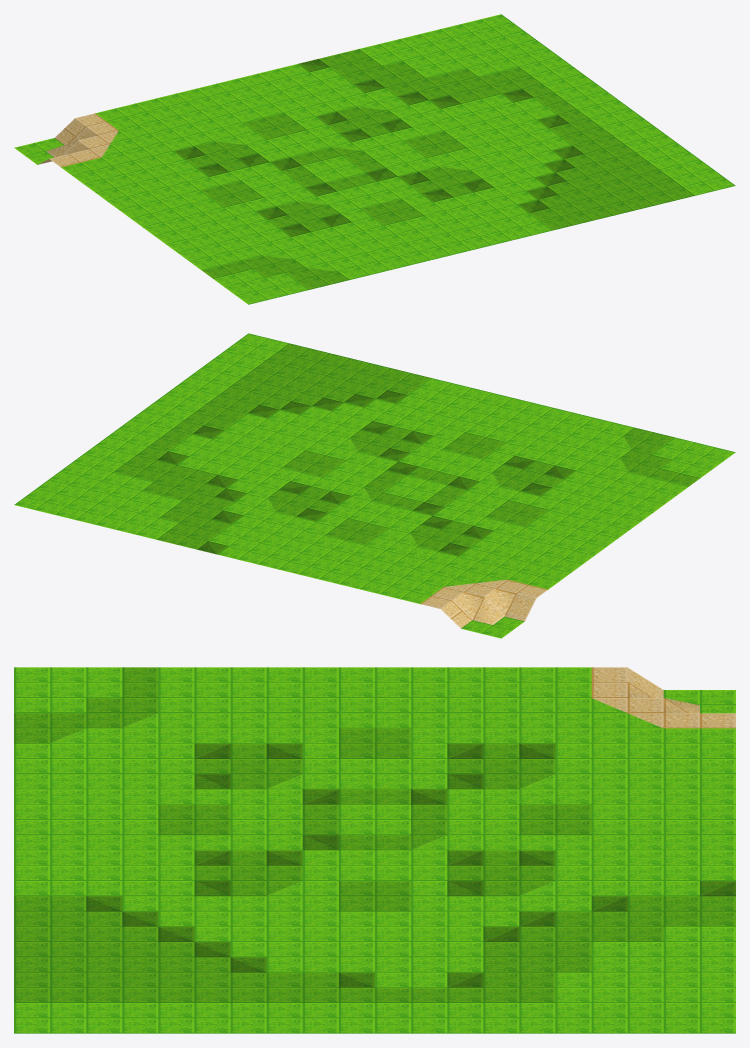
Rendered from FloorSide_7.obj.
3 views of the same model, one above another, from view 1: azimuth 30°, elevation 25°; view 2: azimuth 150°, elevation 25°; view 3: azimuth 270°, elevation 25° (orthographic). The views are drawn at different scales.
Visible parts, largest first — view 1: FloorSide_7; view 2: FloorSide_7; view 3: FloorSide_7.
Boxes of the visible parts, <box> form: FloorSide_7: <box>14,14,735,304</box>; FloorSide_7: <box>14,333,735,638</box>; FloorSide_7: <box>14,667,735,1033</box>.
Bounding box in the file's own units: 24 × 0.6907 × 20.
